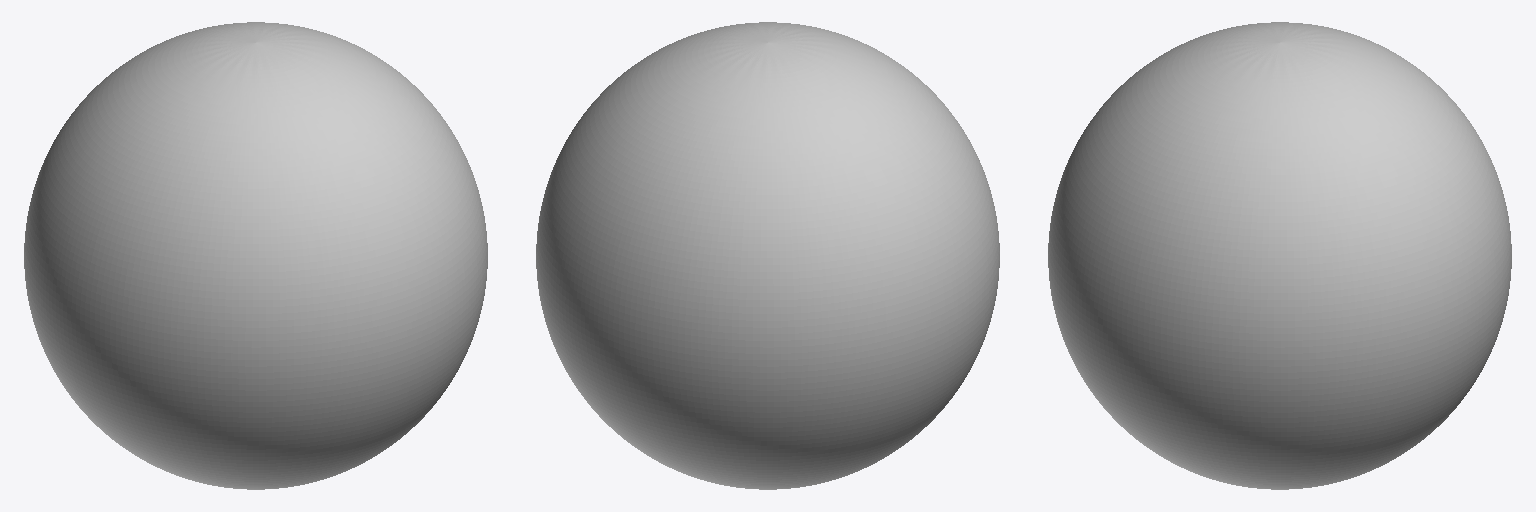
The model's file is Moon.obj.
The picture shows the model from 3 angles: view 1: azimuth 30°, elevation 25°; view 2: azimuth 150°, elevation 25°; view 3: azimuth 270°, elevation 25°; orthographic projection.
Visible parts, largest first — view 1: HyperNURBS Esfera; view 2: HyperNURBS Esfera; view 3: HyperNURBS Esfera.
Part boxes in pixels (x1,y1,x2,y2): HyperNURBS Esfera: (24,22,487,489); HyperNURBS Esfera: (536,22,999,489); HyperNURBS Esfera: (1048,22,1511,489).
Size of the model in its own units: 196 by 199 by 196.